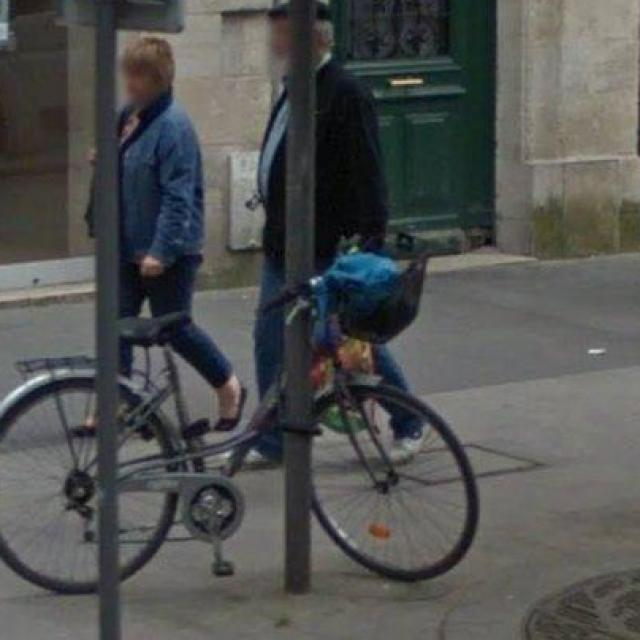bicycle: (8, 222, 514, 608)
